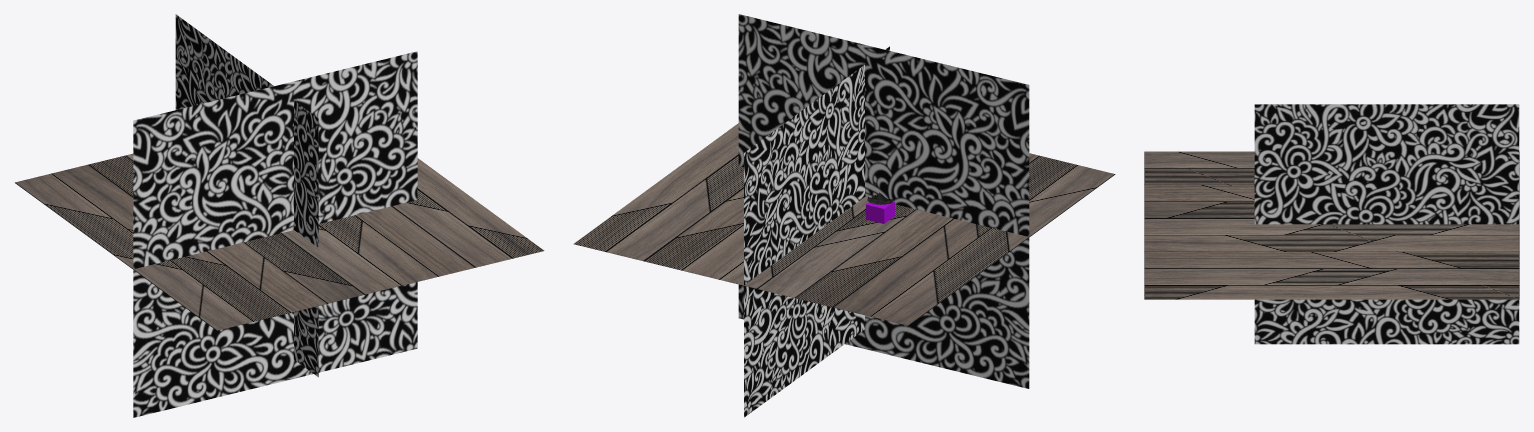
File: slidesfinalinteractive.glb
3 views of the same model, side by side, from view 1: azimuth 30°, elevation 25°; view 2: azimuth 150°, elevation 25°; view 3: azimuth 270°, elevation 25° (orthographic). The views are drawn at different scales.
Parts seen in each view (by area): view 1: Plane, Plane.003; view 2: Plane, Plane.003, Cube.001; view 3: Plane, Plane.003.
Boxes of the visible parts, x1=… form: Plane: x1=133, y1=14, x2=417, y2=417; Plane.003: x1=15, y1=153, x2=544, y2=330; Plane: x1=738, y1=14, x2=1029, y2=417; Plane.003: x1=573, y1=123, x2=1115, y2=325; Cube.001: x1=866, y1=201, x2=894, y2=223; Plane: x1=1254, y1=104, x2=1519, y2=344; Plane.003: x1=1144, y1=151, x2=1519, y2=299.
Size of the model in its own units: 22.07 by 19.13 by 23.62.
4 materials, 3 textured.
